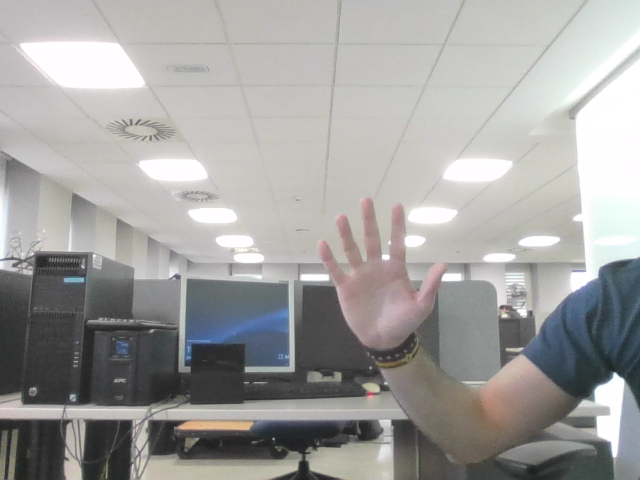Mano Abierta: (327, 209, 434, 322)
